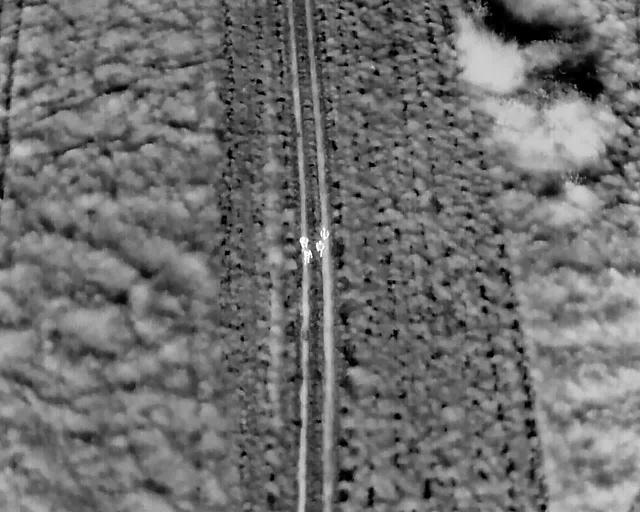person: (302, 245, 313, 267), (314, 238, 326, 258), (298, 233, 310, 252), (319, 226, 330, 242)
